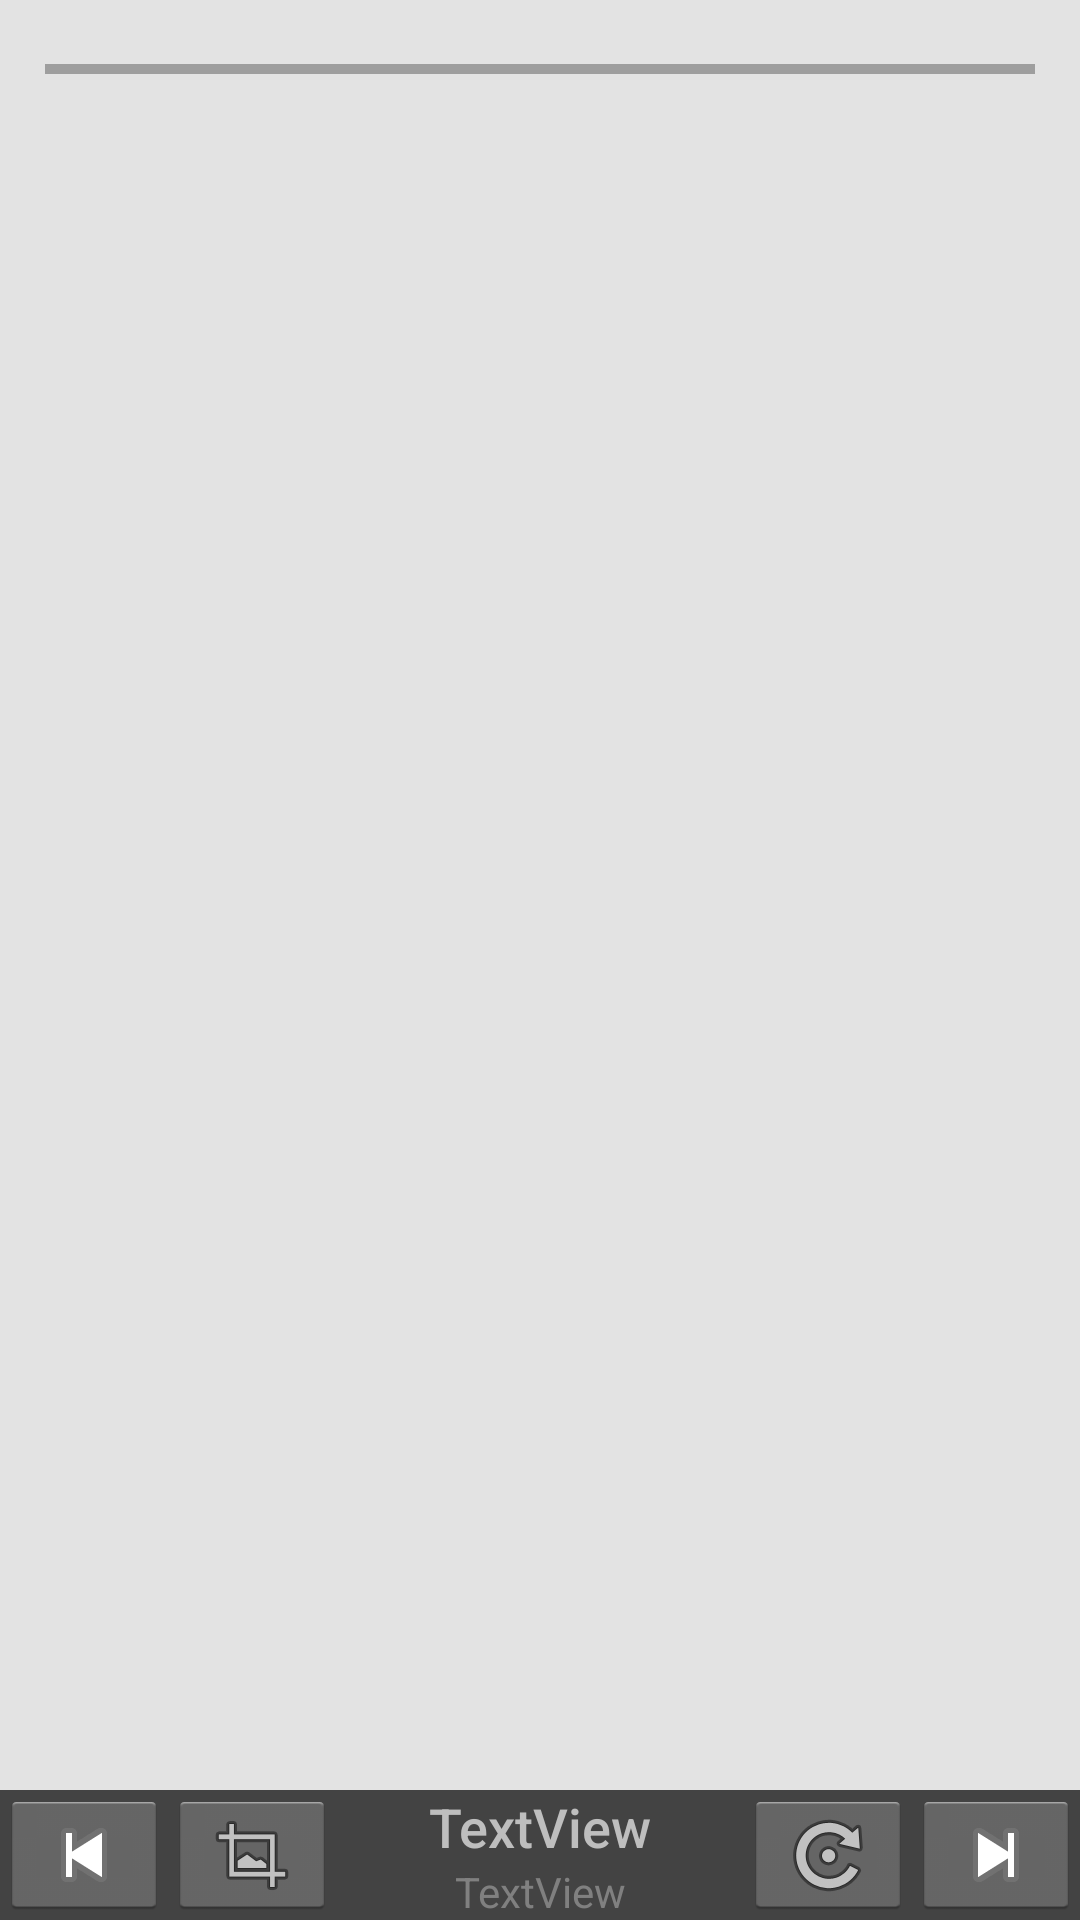

Point at icon controls on the screen. Image size 1080px×1920px, points as (x=x, y=y).
crop: (x=252, y=1854)
next: (x=996, y=1854)
previous: (x=84, y=1854)
rotate: (x=828, y=1854)
